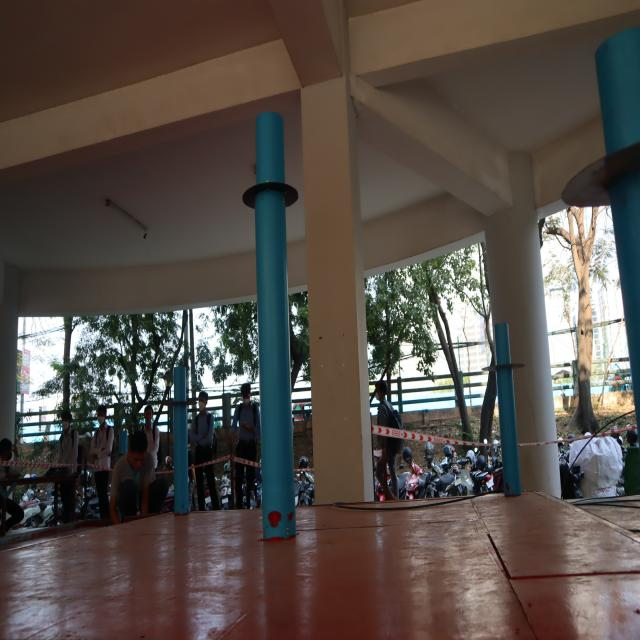pole: (557, 38, 640, 242), (232, 108, 305, 263), (476, 317, 532, 411), (163, 366, 194, 428)
